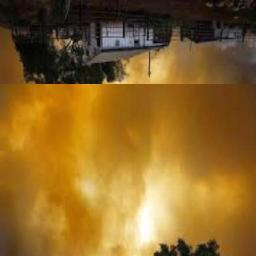Heavy smoke: (0, 72, 256, 256)
